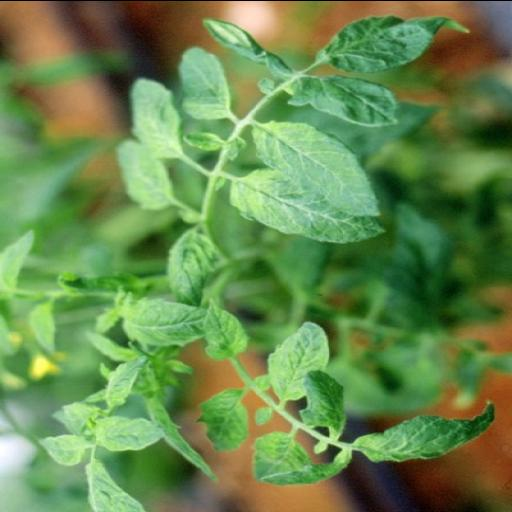disease_tomato: (248, 118, 382, 214), (229, 172, 384, 238), (314, 10, 472, 70), (353, 398, 497, 462), (118, 80, 188, 158), (176, 48, 246, 124), (266, 323, 334, 399), (124, 296, 210, 344), (201, 384, 256, 450), (205, 293, 251, 361), (100, 354, 151, 410), (96, 414, 169, 450)
